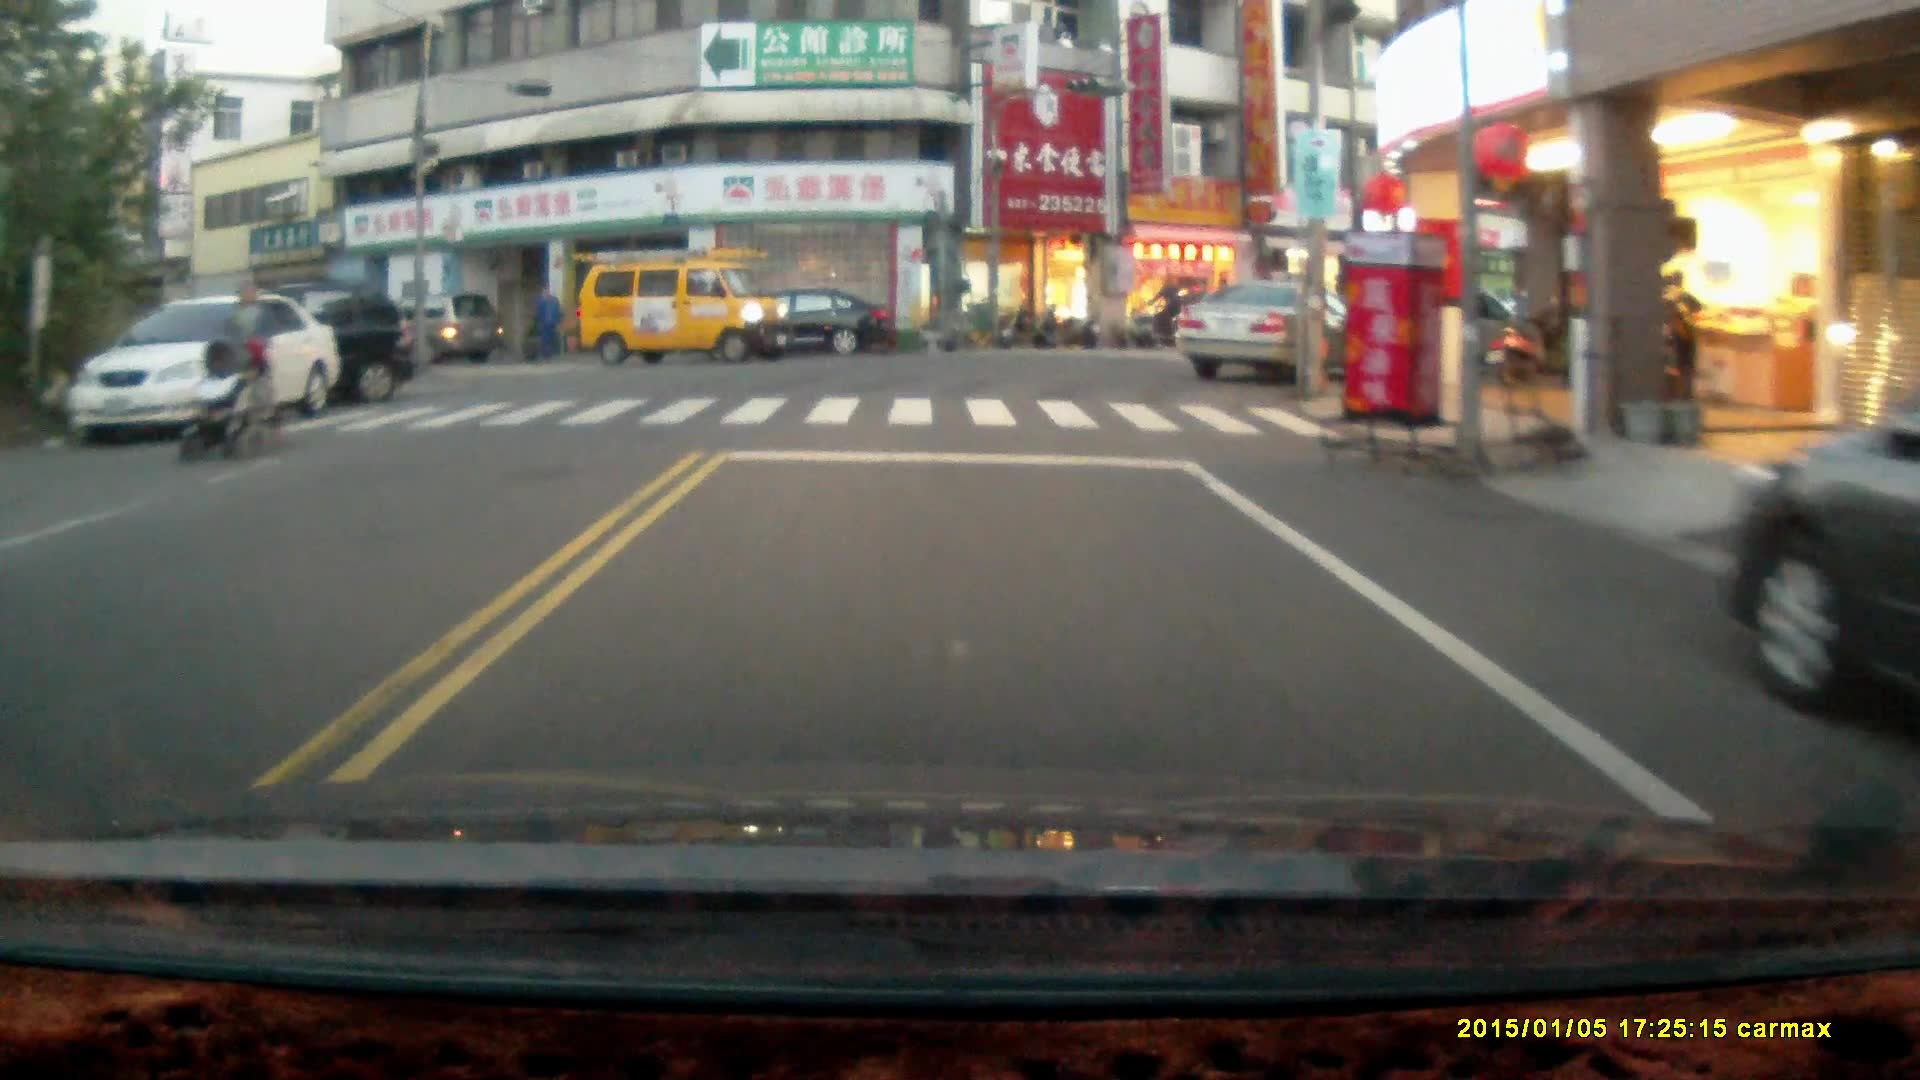pedestrian: (224, 271, 270, 426), (1662, 269, 1701, 413), (534, 283, 561, 359)
rider: (174, 326, 271, 461), (1126, 271, 1187, 353)
vehicle: (63, 292, 336, 446), (147, 276, 412, 405), (579, 244, 794, 363), (1180, 278, 1360, 384), (717, 288, 889, 362), (374, 289, 507, 370)
